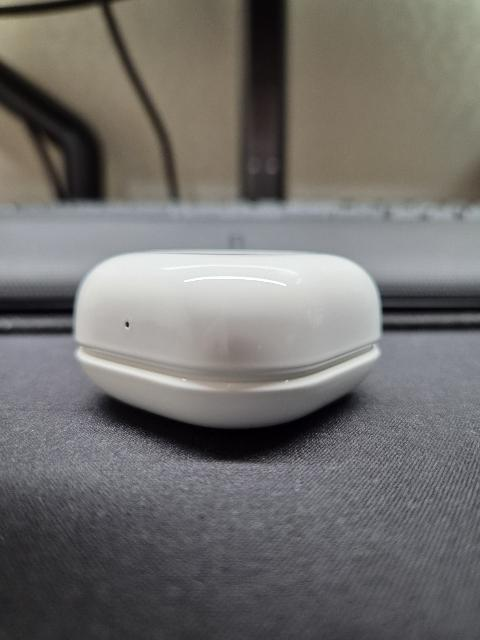earphone_case: (73, 249, 381, 429)
